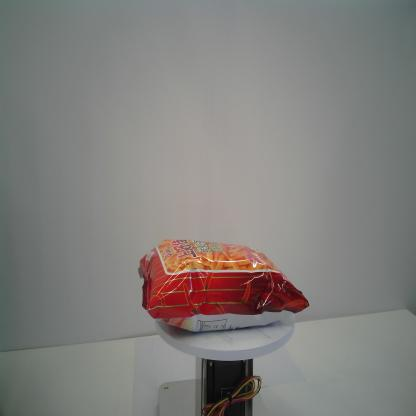Puffed Food: (138, 239, 310, 333)
